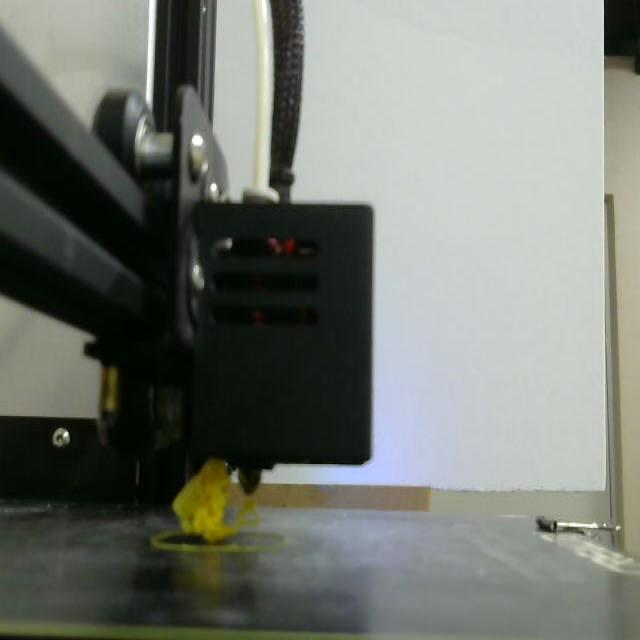spaghetti: (157, 442, 277, 548)
